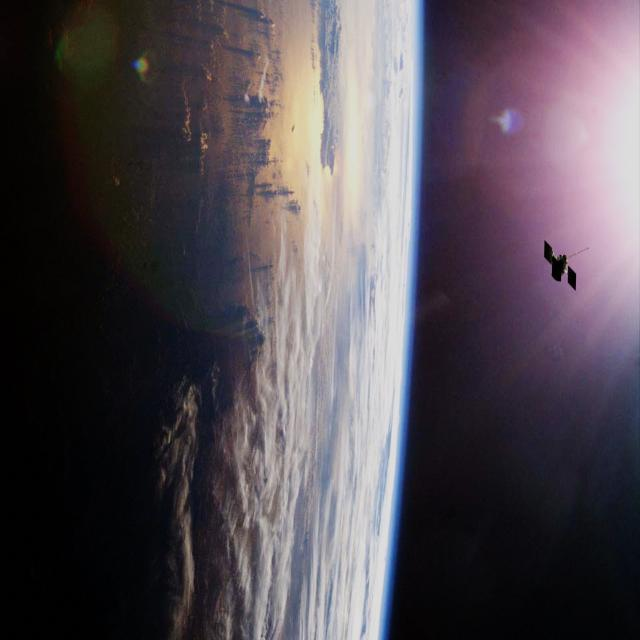satellite: (537, 238, 586, 295)
